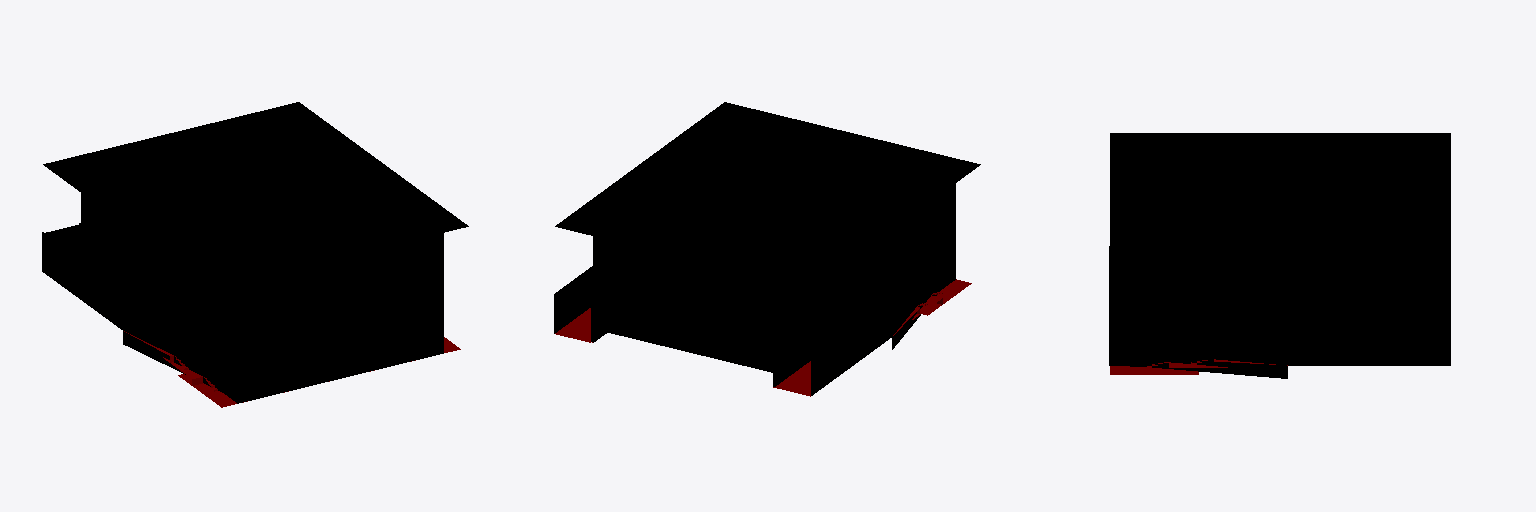
Rendered from Theater.obj.
The picture shows the model from 3 angles: view 1: azimuth 30°, elevation 25°; view 2: azimuth 150°, elevation 25°; view 3: azimuth 270°, elevation 25°; orthographic projection.
Visible parts, largest first — view 1: Theater; view 2: Theater; view 3: Theater.
Part boxes in pixels (left/top/right/bottom): Theater: left=42, top=102, right=468, bottom=407; Theater: left=554, top=102, right=980, bottom=396; Theater: left=1109, top=133, right=1450, bottom=378.
Bounding box in the file's own units: 20.02 × 9 × 23.02.